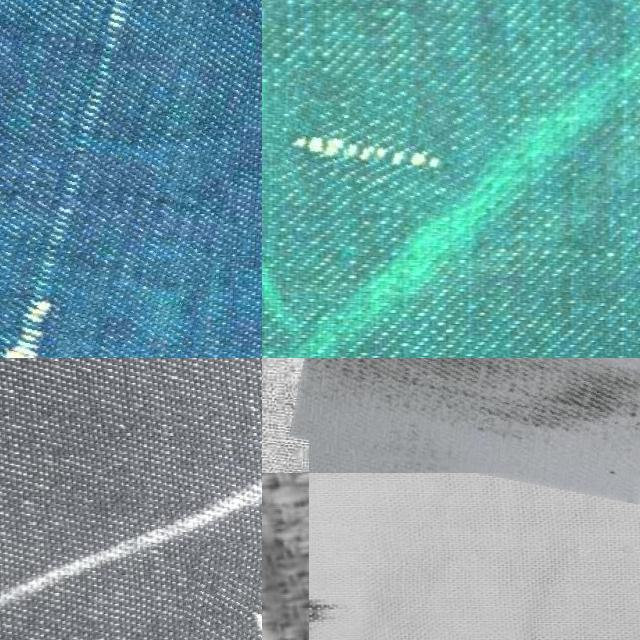Hole: (298, 358, 640, 488), (308, 542, 358, 640)
Thread_other: (279, 76, 486, 212), (181, 542, 262, 640)
